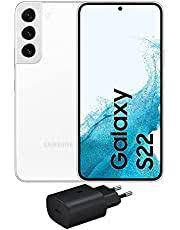Smartphone: (77, 4, 167, 179), (18, 0, 80, 183)
